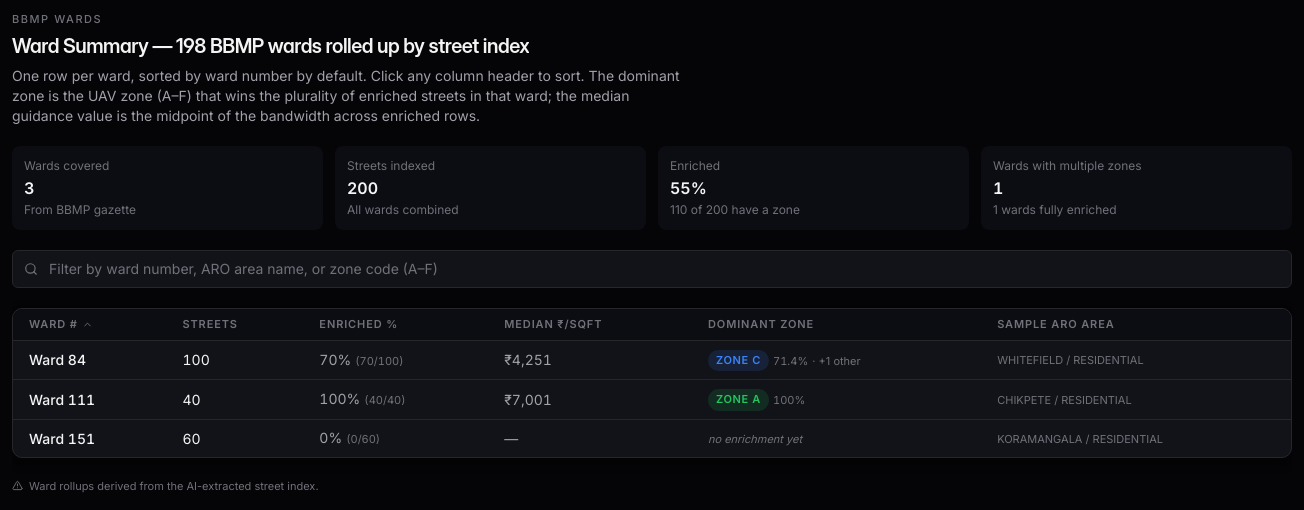
Test: BbmpWardSummaryPanel › filters by zone code (single-letter)
Type "A" into the search field with placeholder "Filter by ward number, ARO area name, or zone code (A–F)" at (652, 269), box left=12, top=250, right=1292, bottom=288
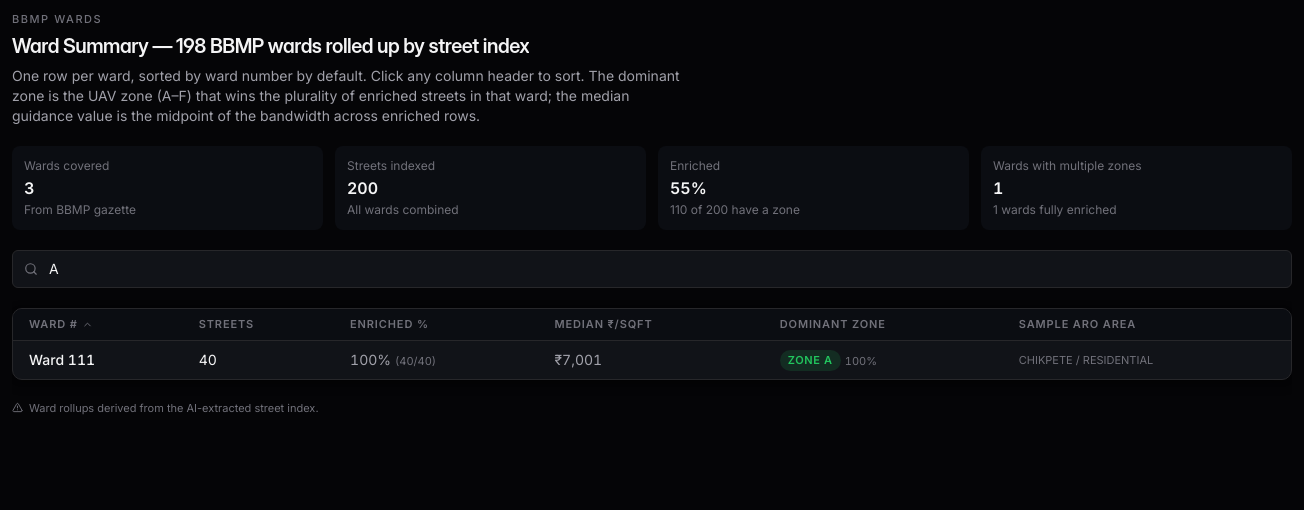
Expected: the text "Ward 111" is shown, left=13, top=340, right=183, bottom=379
Expected: the text "Ward 84" is gone
